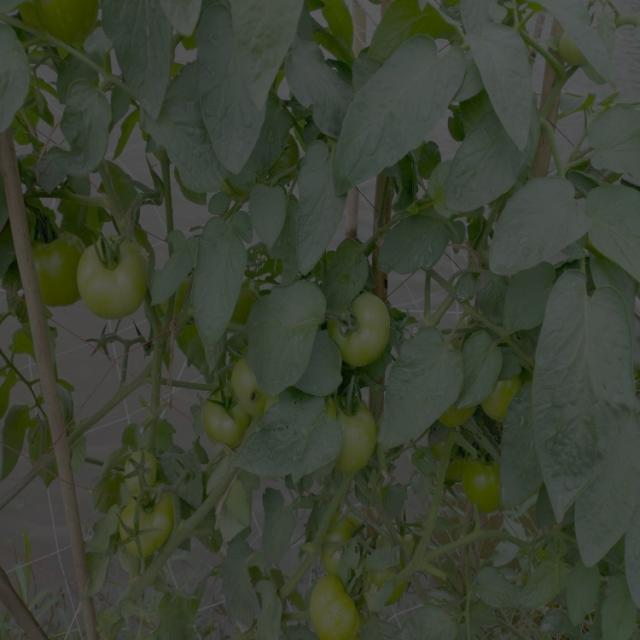tomato: (71, 234, 151, 317), (332, 290, 399, 365), (39, 223, 95, 302), (299, 571, 363, 640), (331, 389, 377, 481), (109, 503, 175, 562), (17, 1, 95, 46), (453, 456, 504, 520), (196, 392, 251, 444), (223, 353, 264, 420), (479, 374, 524, 425), (126, 439, 157, 498)
